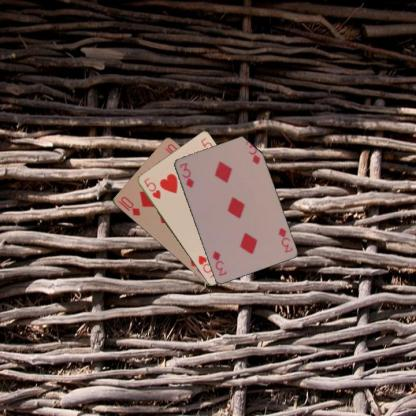10d: (116, 194, 141, 217)
3d: (275, 224, 294, 254), (177, 160, 195, 189)
5h: (141, 175, 162, 200)
